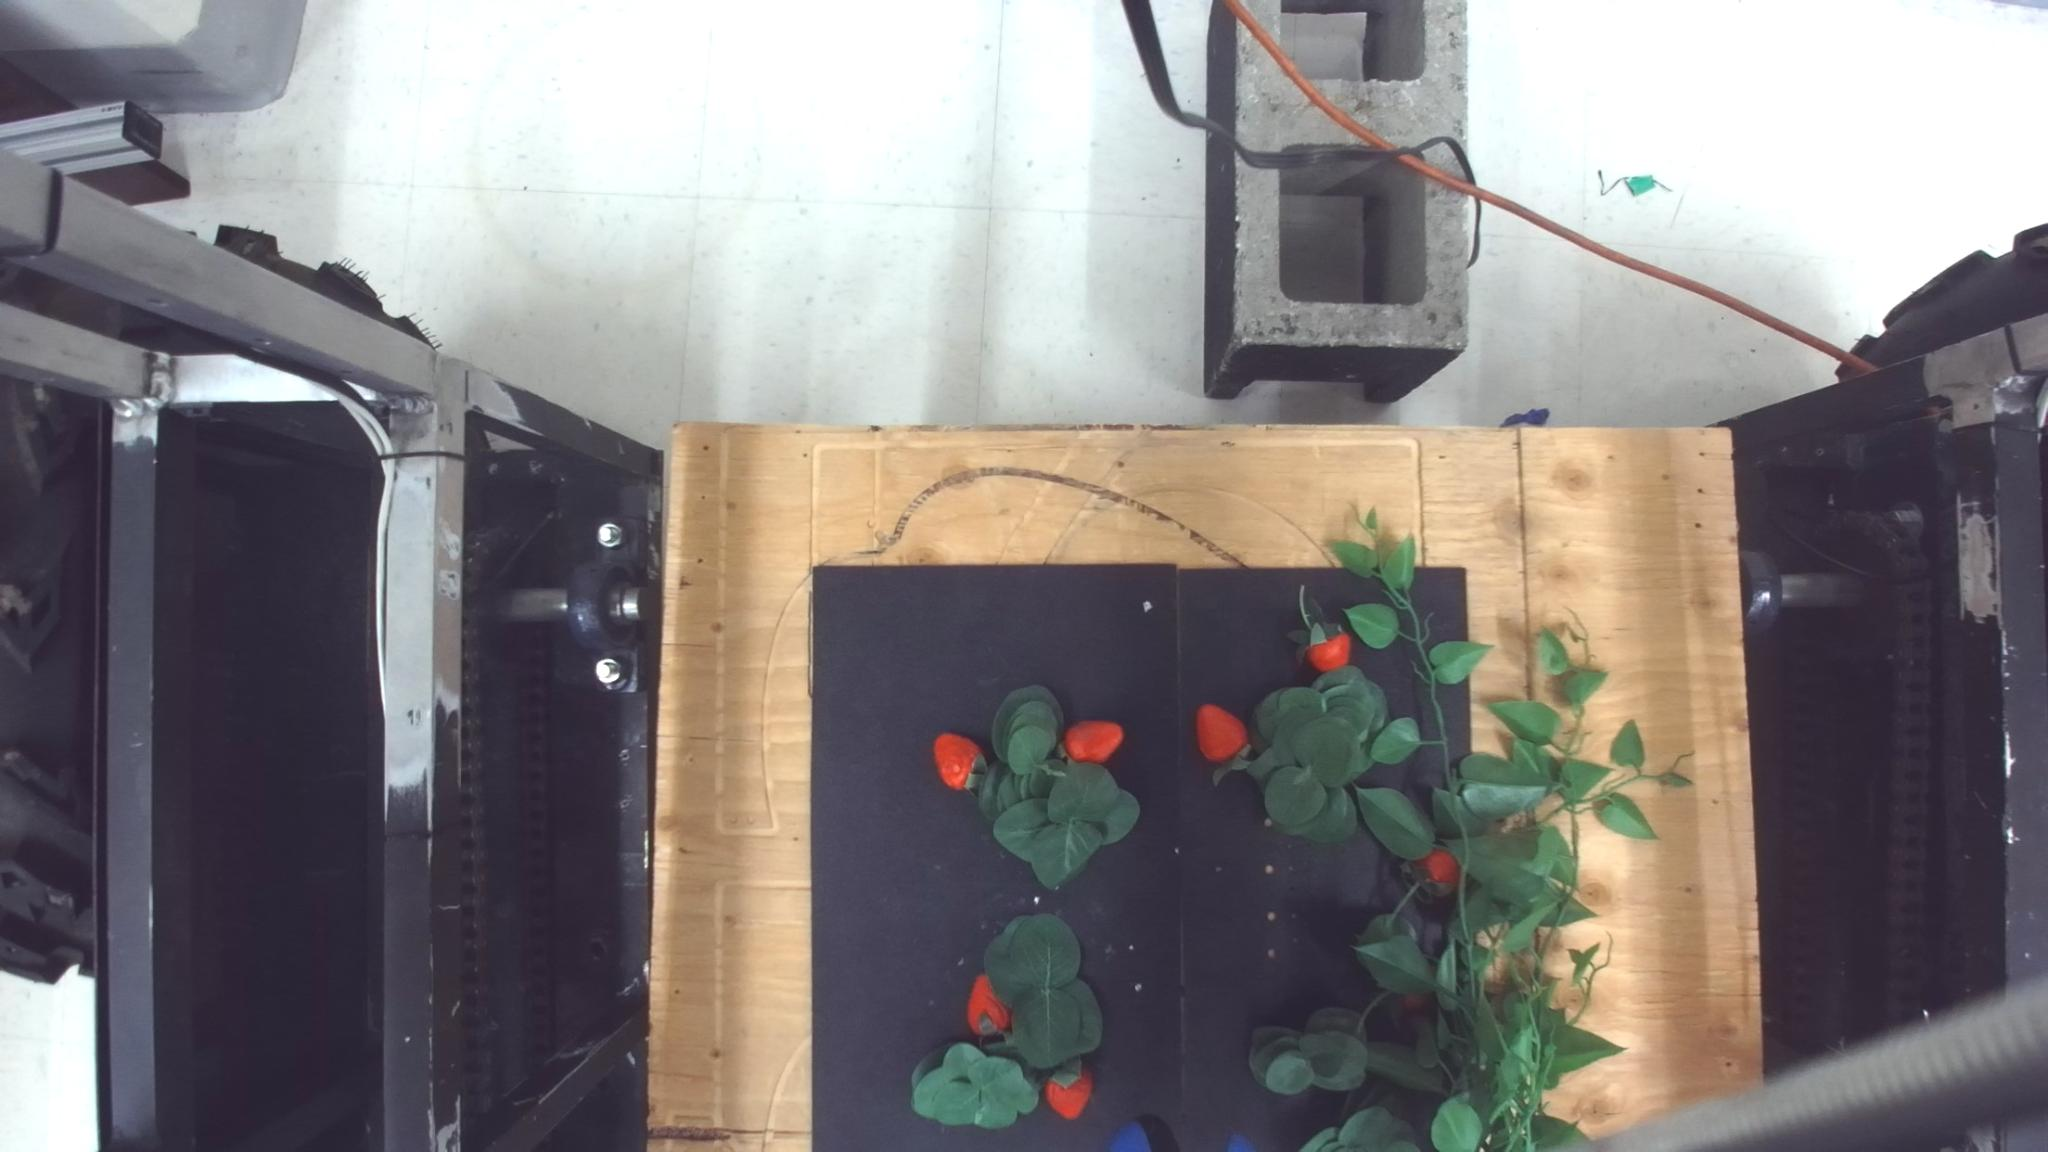strawberry: (1196, 702, 1249, 764), (931, 731, 985, 792), (1042, 1061, 1093, 1120), (1061, 717, 1122, 764), (965, 973, 1010, 1037), (1303, 622, 1352, 672), (1411, 848, 1460, 893)
